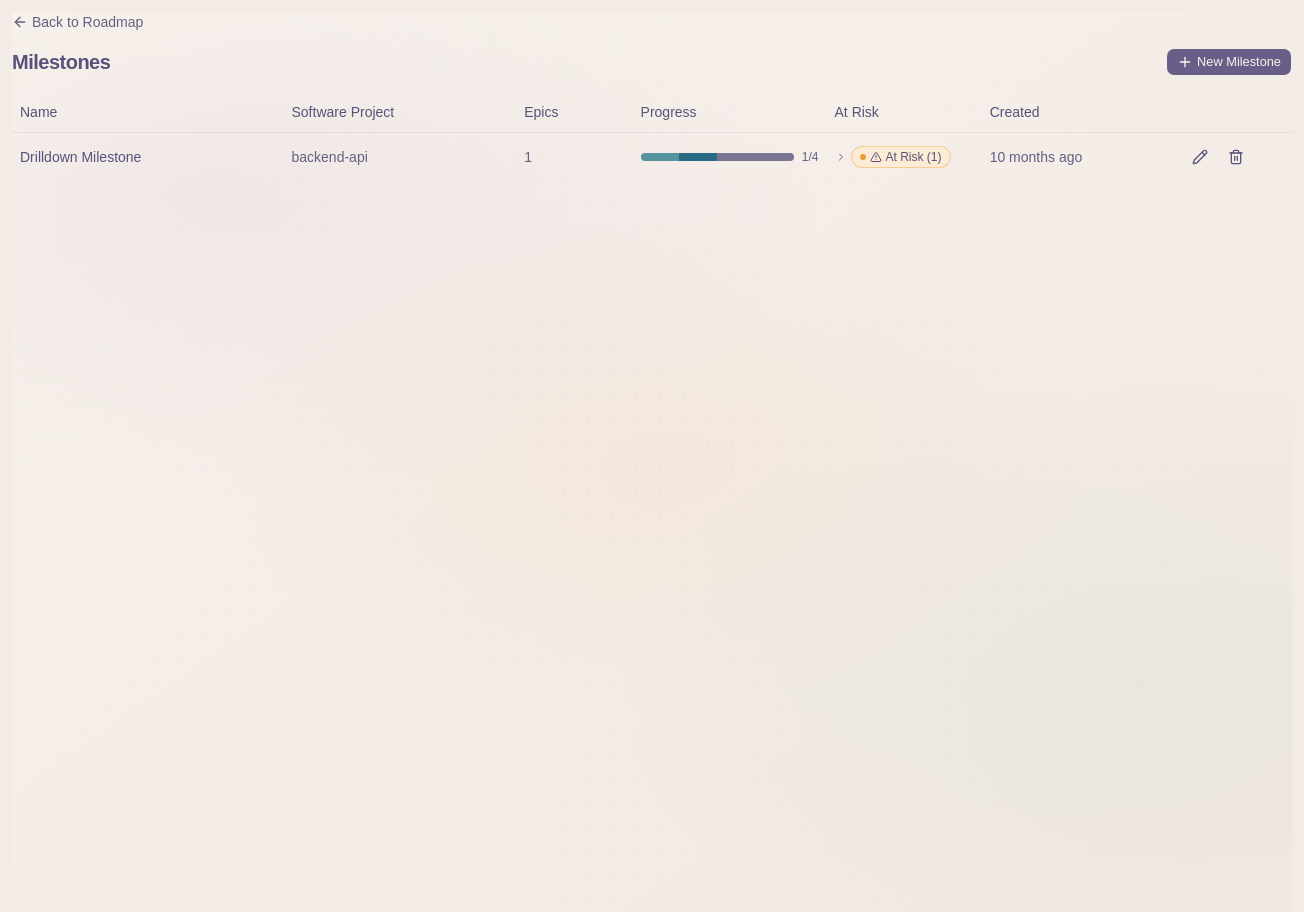
Test: MilestonesPage › expanding an at-risk milestone's row fetches and lists its at-risk items
Expected: the text "Drilldown Milestone" is shown, x1=20 y1=148 x2=141 y2=164
Click the button with test id "milestone-at-risk-toggle". click: (892, 156)
box: x1=834 y1=146 x2=950 y2=168
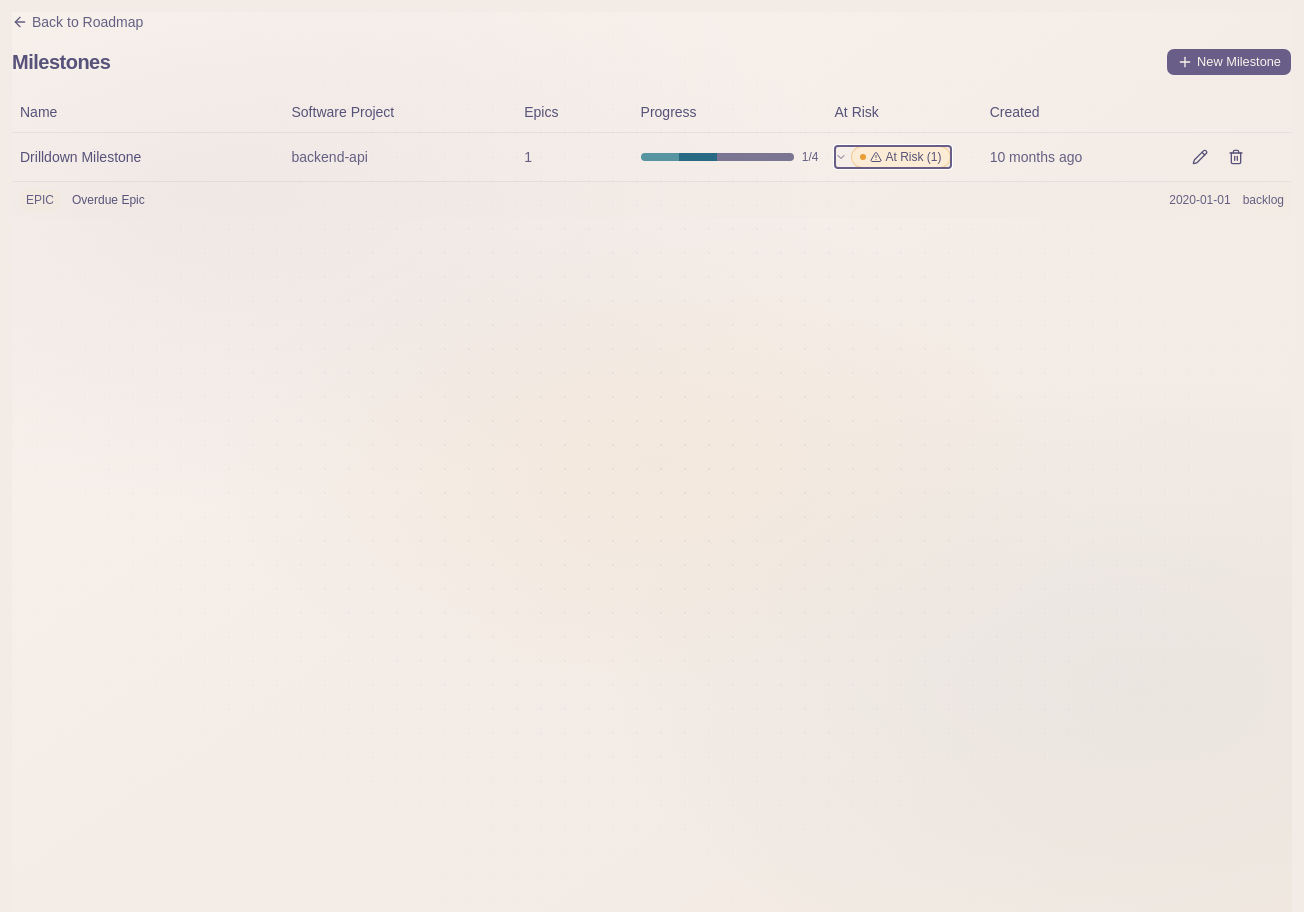
Result: the text "Overdue Epic" is shown at x1=72 y1=192 x2=145 y2=206
Result: the list item with test id "milestone-at-risk-item" shows "EPIC" at x1=26 y1=192 x2=54 y2=206
